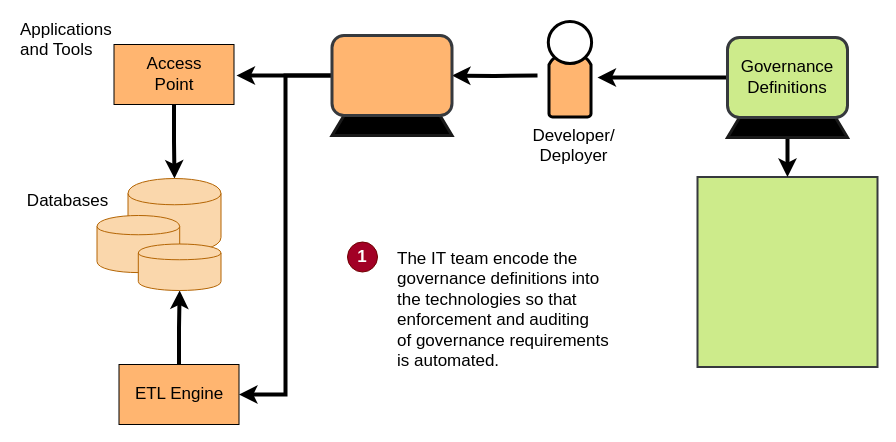
Image size: 896x442. Some labels were removed from this diagram. The shapes that lost their labels are listed below. From the top down, each one's centre as x and y in pixels, then its label:
At (x=391, y=75): "Set up IT".
At (x=787, y=272): "Governance Tool".
